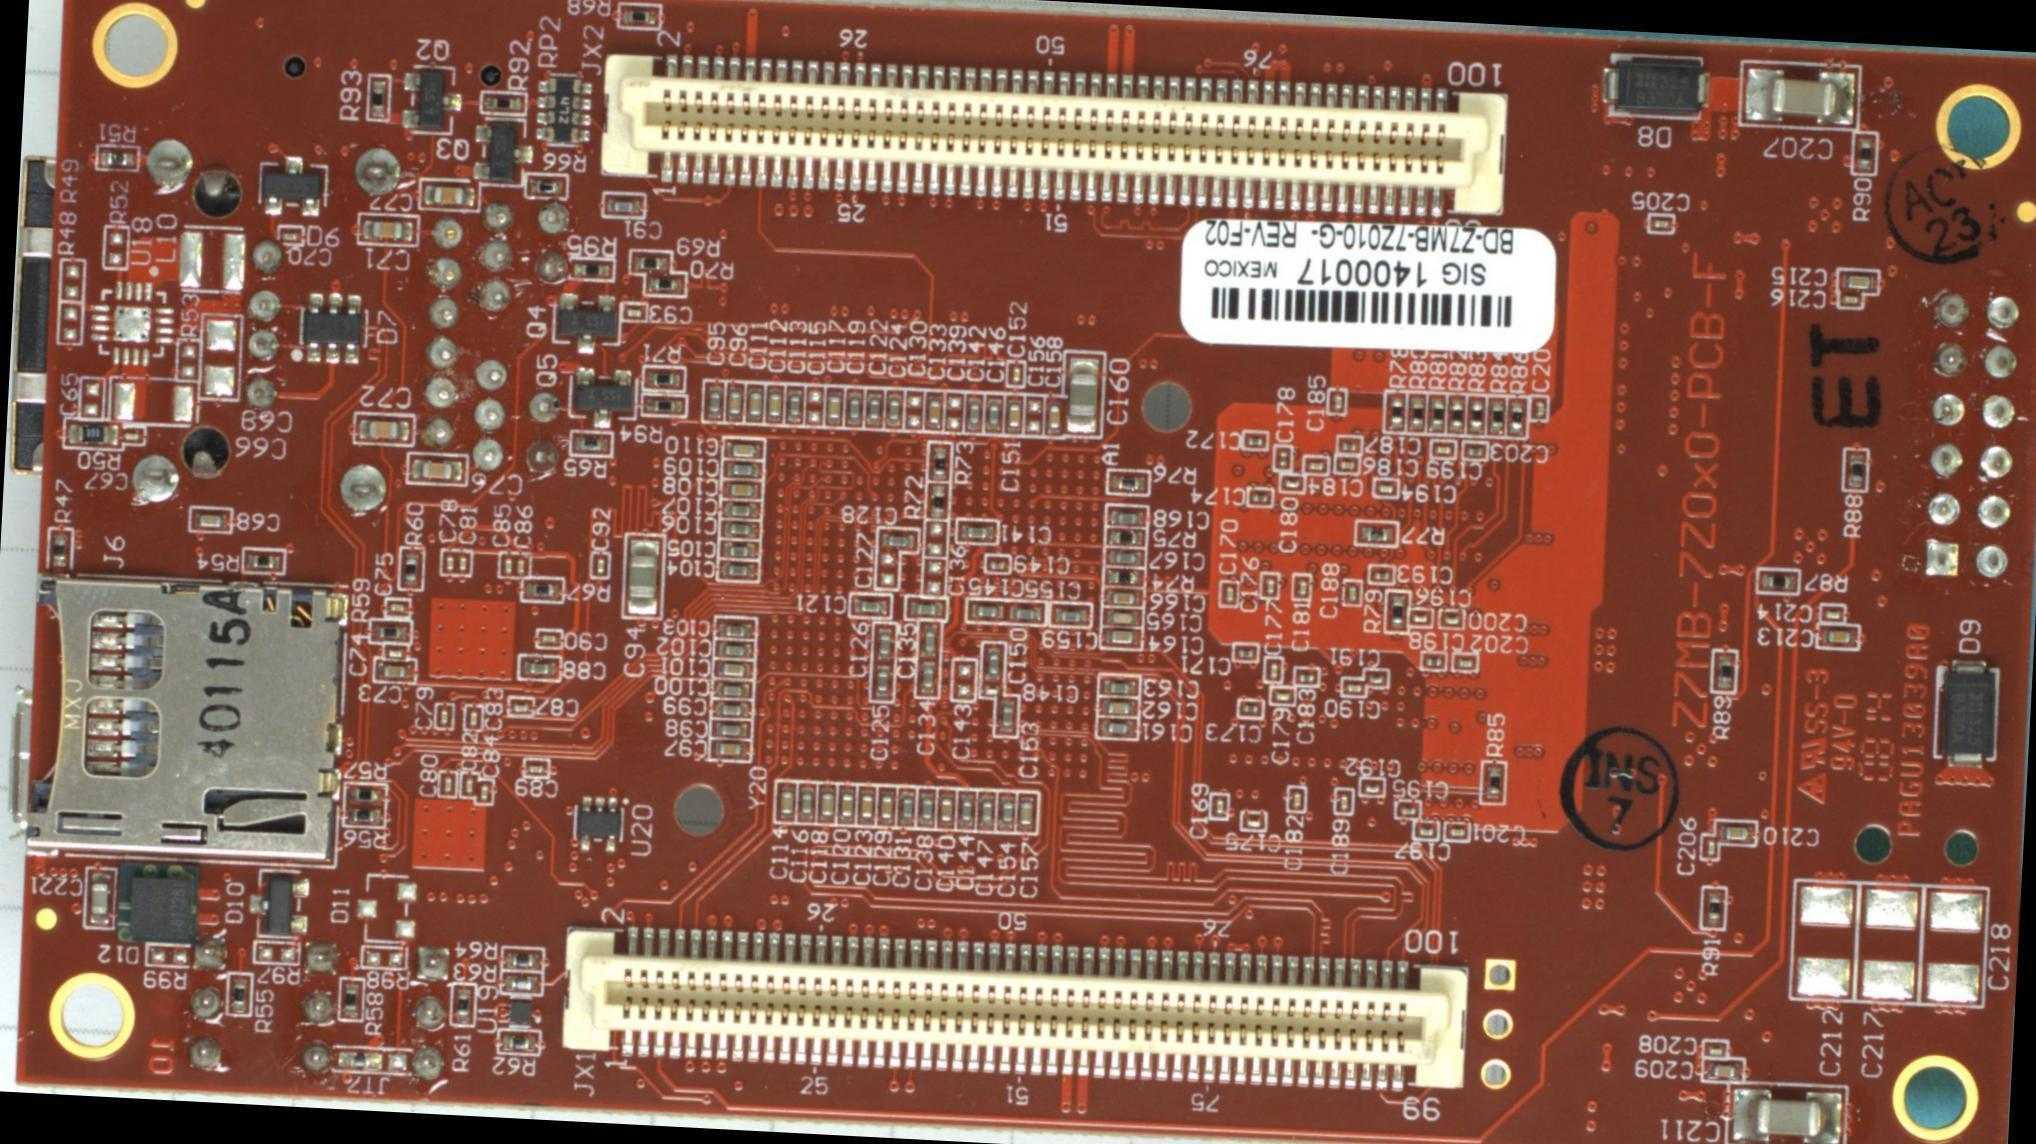Capacitor: (1741, 66, 1855, 127), (1726, 1085, 1843, 1143), (1062, 353, 1099, 434), (625, 536, 661, 616), (87, 872, 113, 926), (419, 181, 475, 205), (357, 416, 409, 442), (409, 457, 463, 482), (360, 217, 413, 241), (1702, 1060, 1742, 1079), (955, 792, 974, 828), (1014, 795, 1033, 831), (915, 790, 934, 826), (775, 783, 794, 819), (814, 785, 833, 821), (895, 790, 914, 826), (855, 789, 874, 825), (190, 511, 227, 530), (1817, 627, 1855, 645), (967, 601, 1004, 621), (906, 598, 942, 618), (918, 622, 937, 659), (1098, 697, 1134, 716), (375, 660, 411, 679), (1097, 718, 1133, 737), (1715, 823, 1752, 841), (982, 645, 1000, 682), (996, 794, 1015, 830), (879, 530, 915, 549), (521, 659, 556, 678), (974, 793, 993, 829), (875, 789, 894, 825), (935, 792, 954, 828), (836, 788, 855, 824), (1839, 273, 1875, 291), (964, 395, 981, 431), (785, 386, 802, 422), (704, 383, 721, 419), (722, 502, 758, 520), (719, 541, 755, 559), (719, 561, 755, 579), (1103, 588, 1139, 606), (1102, 608, 1138, 626), (1102, 628, 1138, 646), (716, 620, 752, 638), (917, 659, 936, 695), (871, 662, 889, 698), (713, 680, 749, 698), (711, 720, 747, 738), (711, 740, 747, 758), (795, 784, 814, 820), (725, 384, 742, 420), (764, 387, 781, 423), (724, 461, 760, 479), (721, 480, 757, 498), (1051, 606, 1087, 624), (1005, 604, 1041, 623), (851, 597, 887, 615), (875, 626, 894, 661), (1100, 678, 1136, 696), (714, 660, 750, 678), (603, 196, 640, 213), (958, 523, 995, 540), (996, 697, 1013, 734), (984, 396, 1001, 432), (884, 390, 901, 426), (924, 393, 941, 429), (1004, 397, 1021, 433), (1044, 399, 1061, 435), (825, 388, 842, 424), (845, 389, 862, 425), (864, 390, 881, 426), (745, 385, 762, 421), (724, 440, 761, 457), (720, 521, 756, 539), (1105, 549, 1141, 567), (715, 640, 751, 658), (1107, 507, 1143, 525), (714, 700, 750, 718), (1238, 701, 1258, 716), (1421, 654, 1443, 668), (1336, 792, 1349, 813), (1374, 483, 1395, 496), (1440, 612, 1461, 626), (1262, 577, 1276, 596), (538, 631, 557, 646), (1242, 815, 1261, 829), (1464, 444, 1483, 457), (1271, 688, 1291, 702), (509, 700, 529, 715), (1445, 825, 1465, 838), (593, 555, 605, 576), (462, 553, 474, 573), (1295, 670, 1316, 683), (1339, 438, 1356, 453), (1397, 803, 1415, 817), (1344, 584, 1358, 603), (1455, 655, 1474, 669), (1212, 795, 1224, 817), (525, 762, 544, 775), (440, 774, 453, 793), (477, 782, 489, 801), (1705, 1044, 1724, 1056), (1330, 392, 1342, 411), (986, 558, 1005, 571), (1293, 577, 1306, 597), (1221, 585, 1233, 604), (1361, 780, 1380, 793), (1703, 837, 1714, 857), (1820, 608, 1842, 620), (1234, 647, 1254, 659), (1267, 659, 1278, 680), (1650, 217, 1668, 230), (1533, 399, 1545, 417), (1244, 435, 1263, 448), (120, 429, 139, 442), (1290, 789, 1302, 809), (462, 776, 473, 796), (1009, 363, 1021, 383), (1370, 569, 1390, 580), (443, 553, 455, 572), (1365, 672, 1384, 684), (1342, 681, 1362, 692), (501, 556, 513, 574), (1415, 825, 1433, 837), (1432, 443, 1450, 455), (1306, 460, 1324, 471), (1281, 478, 1299, 489), (1250, 491, 1268, 502), (513, 557, 524, 575), (387, 602, 405, 613), (466, 709, 477, 727), (1339, 458, 1355, 470), (1408, 612, 1428, 623), (623, 307, 641, 319), (384, 647, 402, 659), (982, 685, 998, 697), (437, 707, 449, 725), (1840, 293, 1858, 304), (280, 231, 297, 241), (1277, 449, 1287, 466)
Connector: (560, 915, 1468, 1101), (595, 45, 1508, 226), (19, 566, 351, 871), (1474, 954, 1519, 1095)
Diode: (1929, 658, 2003, 769), (1598, 50, 1711, 123), (255, 153, 328, 220), (296, 290, 363, 364), (246, 867, 310, 940), (127, 874, 193, 942)
IC: (569, 793, 624, 852), (506, 996, 536, 1028)
Pads: (86, 279, 175, 368), (1921, 888, 1984, 1005), (1792, 884, 1855, 1000), (1856, 887, 1918, 1002), (357, 871, 419, 948), (176, 228, 247, 291), (109, 380, 195, 423), (199, 317, 237, 398), (254, 943, 296, 963), (104, 228, 124, 264), (147, 947, 187, 965), (877, 550, 896, 586), (953, 661, 973, 698), (363, 948, 402, 966), (1025, 396, 1043, 434), (944, 393, 962, 431), (177, 342, 196, 378), (81, 380, 99, 416), (925, 521, 942, 557), (924, 559, 943, 595), (61, 261, 79, 298), (61, 304, 78, 340), (905, 392, 921, 428), (806, 387, 822, 423)
Pins: (1918, 287, 2022, 582), (413, 194, 517, 471), (241, 239, 284, 413), (297, 940, 339, 1079), (407, 942, 449, 1081), (186, 935, 228, 1074), (522, 388, 562, 475), (143, 131, 197, 194), (532, 198, 568, 284), (127, 449, 181, 505), (334, 460, 388, 516), (351, 145, 402, 195)
Resistor: (534, 72, 591, 148), (65, 421, 119, 446), (499, 1031, 535, 1054), (48, 530, 68, 570), (450, 988, 472, 1024), (621, 6, 657, 28), (1505, 399, 1525, 436), (1356, 525, 1394, 545), (483, 94, 523, 112), (501, 973, 540, 992), (340, 981, 359, 1017), (229, 975, 247, 1014), (1853, 134, 1872, 171), (570, 259, 610, 277), (1446, 395, 1464, 433), (1845, 451, 1864, 487), (571, 434, 607, 453), (1109, 473, 1145, 492), (400, 550, 419, 586), (523, 579, 560, 598), (1466, 395, 1483, 432), (1757, 572, 1794, 590), (1482, 764, 1501, 801), (346, 786, 381, 805), (346, 806, 381, 825), (98, 147, 133, 166), (645, 369, 680, 389), (1386, 594, 1405, 630), (368, 77, 385, 117), (631, 253, 667, 272), (1426, 396, 1444, 432), (1714, 654, 1732, 691), (371, 622, 407, 640), (646, 274, 679, 293), (927, 483, 945, 517), (243, 552, 281, 569), (502, 951, 538, 968), (526, 176, 562, 193), (930, 444, 946, 480), (1106, 528, 1142, 545), (1486, 398, 1503, 434), (1387, 394, 1404, 429), (1407, 395, 1424, 430), (642, 398, 683, 413), (1704, 892, 1722, 926), (1104, 569, 1140, 585)
Transistor: (564, 365, 639, 430), (399, 63, 463, 136), (469, 117, 532, 189), (550, 289, 616, 353)
